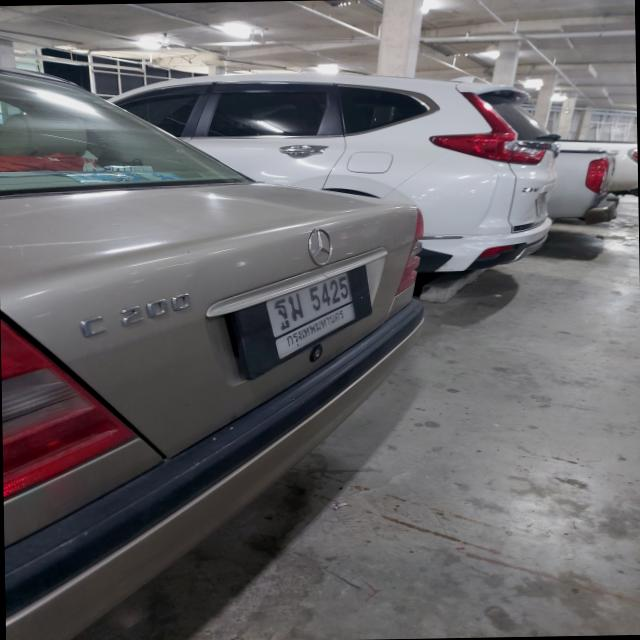license_plate: (266, 272, 356, 360)
